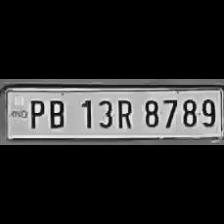1: (74, 96, 94, 130)
3: (95, 97, 113, 129)
7: (160, 96, 178, 128)
8: (138, 96, 160, 128), (179, 96, 197, 128)
9: (198, 94, 216, 128)
B: (44, 96, 68, 130)
P: (24, 97, 46, 129)
R: (113, 96, 135, 130)
